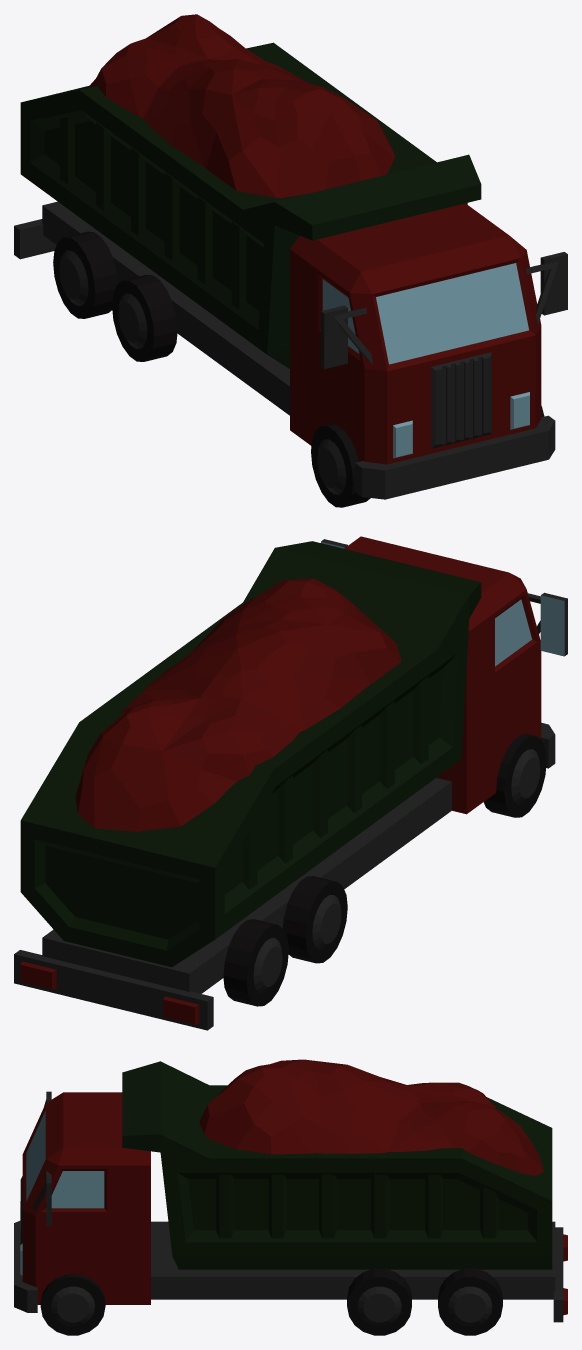
The model's file is garbage_car_NonAnimation.fbx.
3 views of the same model, one above another, from view 1: azimuth 30°, elevation 25°; view 2: azimuth 150°, elevation 25°; view 3: azimuth 270°, elevation 25° (orthographic). The views are drawn at different scales.
Visible parts, largest first — view 1: truck rubbish.001, truck rubbish.004, truck rubbish.002, truck rubbish.003; view 2: truck rubbish.001, truck rubbish.002, truck rubbish.004, truck rubbish.003; view 3: truck rubbish.001, truck rubbish.002, truck rubbish.004, truck rubbish.003.
Part boxes in pixels (bbox=[...]): truck rubbish.001: bbox=[14, 14, 567, 499]; truck rubbish.004: bbox=[112, 274, 177, 361]; truck rubbish.002: bbox=[53, 231, 117, 318]; truck rubbish.003: bbox=[311, 406, 544, 507]; truck rubbish.001: bbox=[14, 536, 567, 1030]; truck rubbish.002: bbox=[223, 919, 288, 1006]; truck rubbish.004: bbox=[283, 876, 347, 963]; truck rubbish.003: bbox=[483, 734, 546, 817]; truck rubbish.001: bbox=[14, 1059, 567, 1322]; truck rubbish.002: bbox=[438, 1268, 502, 1335]; truck rubbish.004: bbox=[347, 1268, 411, 1335]; truck rubbish.003: bbox=[40, 1274, 105, 1335].
Size of the model in its own units: 80.05 by 204 by 93.87.
